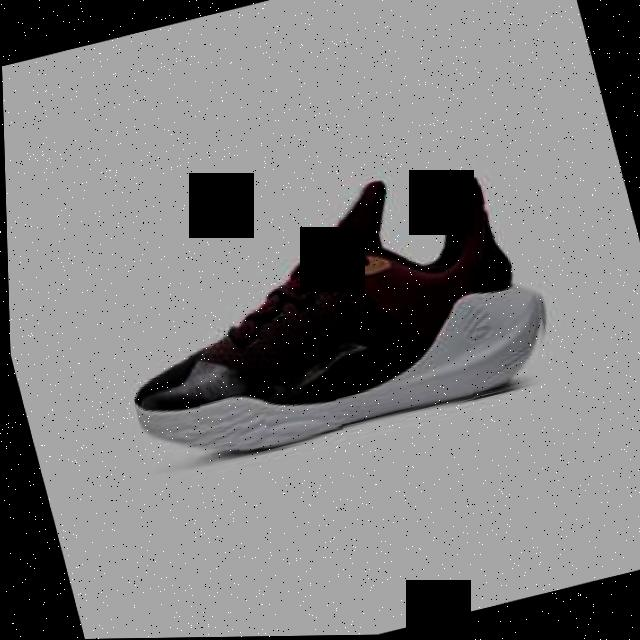shoe: (91, 151, 562, 481)
